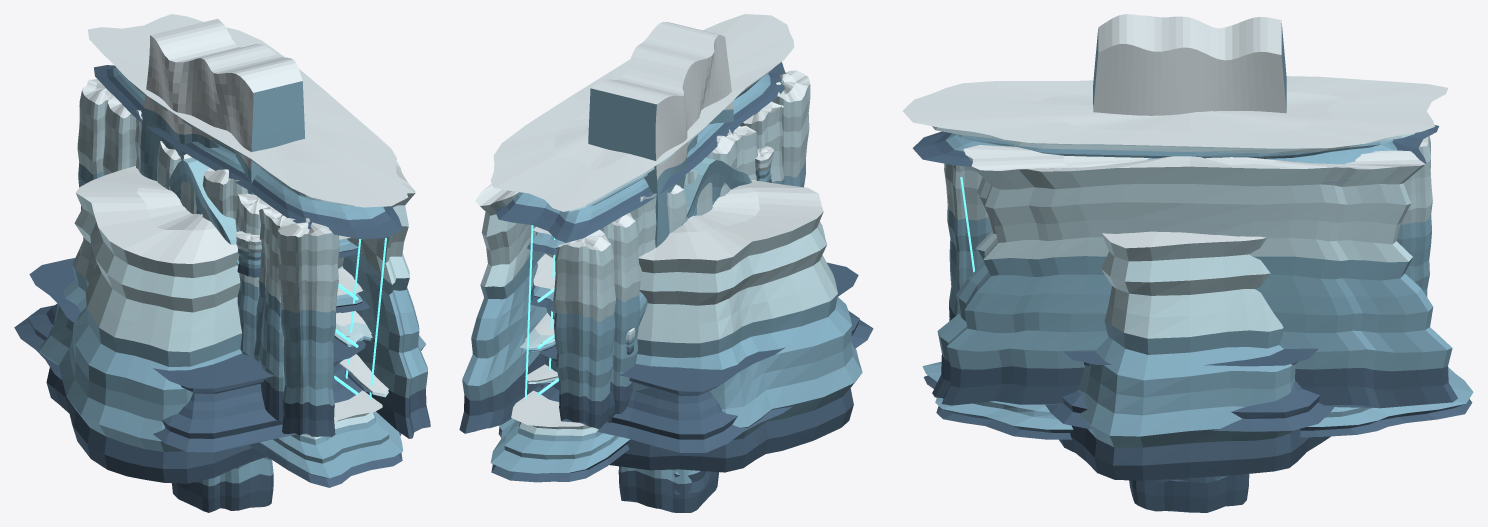
Rendered from glasswake-environment-v3.glb.
The picture shows the model from 3 angles, left to right: view 1: azimuth 30°, elevation 25°; view 2: azimuth 150°, elevation 25°; view 3: azimuth 270°, elevation 25°; orthographic projection. The views are drawn at different scales.
Parts seen in each view (by area): view 1: far_fragment, calving_roof, crevice_wall, basal_strata, calving_chunk_08, calving_back, calving_floor, calving_chunk_07, cliff_2, calving_chunk_00, calving_chunk_06, calving_chunk_01 (+7 smaller); view 2: far_fragment, calving_roof, crevice_wall, calving_back, basal_strata, calving_chunk_00, calving_floor, calving_chunk_01, cliff_2, calving_chunk_08, recess_wall, calving_chunk_07 (+10 smaller); view 3: calving_back, far_fragment, calving_roof, crevice_wall, calving_floor, basal_strata, calving_chunk_08, cliff_2, calving_chunk_00.
Part boxes in pixels (left/top/right/bottom): far_fragment: left=39, top=166, right=425, bottom=483; calving_roof: left=88, top=14, right=408, bottom=238; crevice_wall: left=140, top=18, right=305, bottom=194; basal_strata: left=14, top=258, right=365, bottom=452; calving_chunk_08: left=277, top=218, right=339, bottom=437; calving_back: left=343, top=161, right=430, bottom=438; calving_floor: left=249, top=390, right=403, bottom=487; calving_chunk_07: left=253, top=206, right=286, bottom=421; cliff_2: left=172, top=456, right=273, bottom=512; calving_chunk_00: left=77, top=79, right=112, bottom=239; calving_chunk_06: left=235, top=193, right=271, bottom=356; calving_chunk_01: left=103, top=95, right=136, bottom=175; far_fragment: left=544, top=180, right=862, bottom=472; calving_roof: left=490, top=14, right=794, bottom=242; crevice_wall: left=588, top=22, right=733, bottom=247; calving_back: left=459, top=183, right=547, bottom=433; basal_strata: left=533, top=262, right=873, bottom=452; calving_chunk_00: left=553, top=229, right=615, bottom=428; calving_floor: left=490, top=390, right=629, bottom=482; calving_chunk_01: left=600, top=212, right=640, bottom=414; cliff_2: left=618, top=466, right=718, bottom=512; calving_chunk_08: left=772, top=70, right=810, bottom=187; recess_wall: left=607, top=157, right=751, bottom=423; calving_chunk_07: left=740, top=101, right=784, bottom=184; calving_back: left=932, top=145, right=1457, bottom=408; far_fragment: left=1059, top=231, right=1330, bottom=480; calving_roof: left=902, top=76, right=1448, bottom=183; crevice_wall: left=1093, top=14, right=1286, bottom=115; calving_floor: left=922, top=361, right=1473, bottom=439; basal_strata: left=1045, top=348, right=1334, bottom=431; calving_chunk_08: left=944, top=163, right=991, bottom=320; cliff_2: left=1129, top=474, right=1249, bottom=512; calving_chunk_00: left=1396, top=136, right=1432, bottom=296.
Size of the model in its own units: 360 by 464 by 505.
